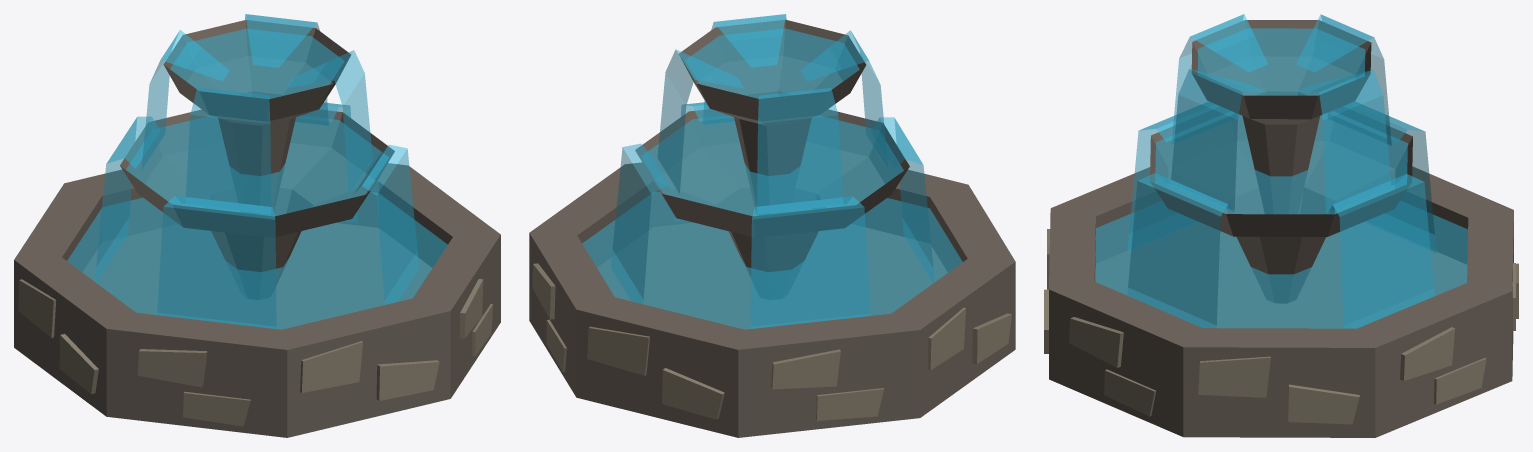
The picture shows the model from 3 angles, left to right: view 1: azimuth 30°, elevation 25°; view 2: azimuth 150°, elevation 25°; view 3: azimuth 270°, elevation 25°; orthographic projection. The views are drawn at different scales.
Parts seen in each view (by area): view 1: Fountain; view 2: Fountain; view 3: Fountain.
Boxes of the visible parts, x1,y1,x2,y2 form: Fountain: [14, 14, 500, 437]; Fountain: [529, 14, 1015, 437]; Fountain: [1044, 14, 1518, 437].
Bounding box in the file's own units: 185 × 123 × 185.
Materials: 1 (1 with a texture image).
